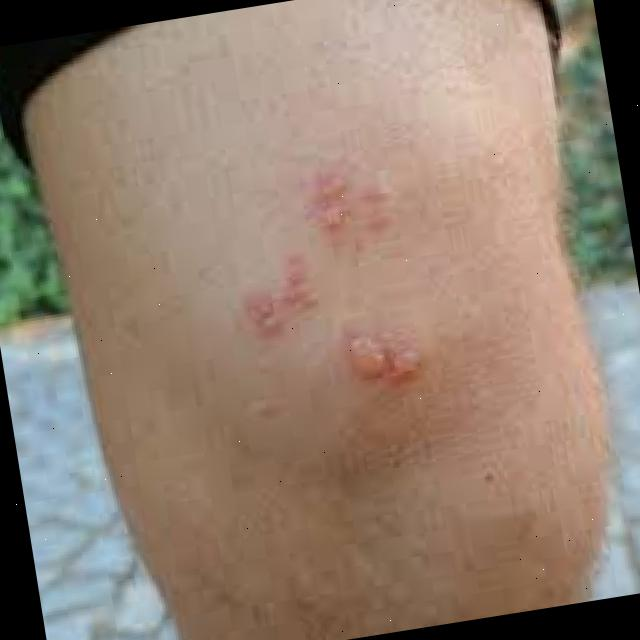kene: (317, 301, 430, 405)
